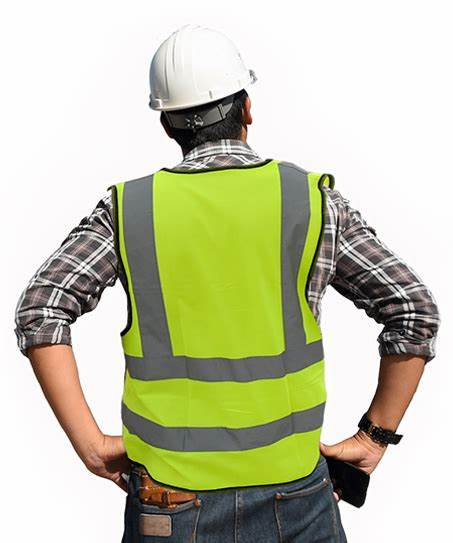Helmet: (142, 19, 273, 151)
Reflective vest: (106, 156, 340, 490)
